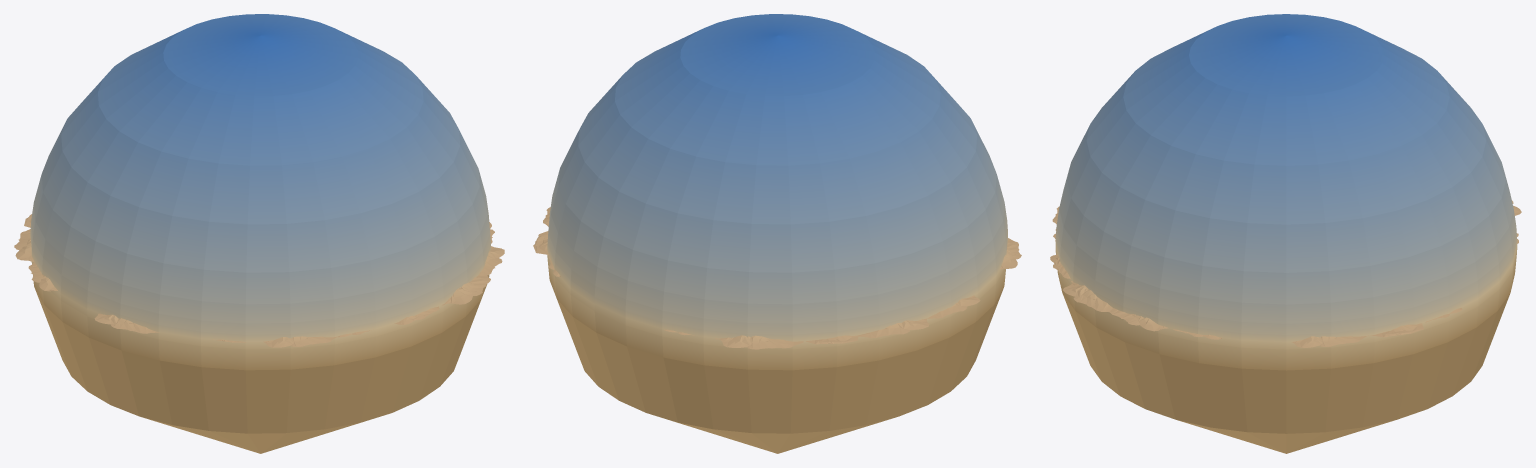
File: sky-desert.glb
3 renders of one model, left to right at view 1: azimuth 30°, elevation 25°; view 2: azimuth 150°, elevation 25°; view 3: azimuth 270°, elevation 25°, orthographic.
Visible parts, largest first — view 1: dome, ring; view 2: dome, ring; view 3: dome, ring.
Boxes of the visible parts, x1,y1,x2,y2 form: dome: (30,14,490,453); ring: (14,214,504,347); dome: (547,14,1007,453); ring: (533,207,1021,349); dome: (1055,14,1517,453); ring: (1050,200,1521,347).
Size of the model in its own units: 18954 by 18000 by 18392.
